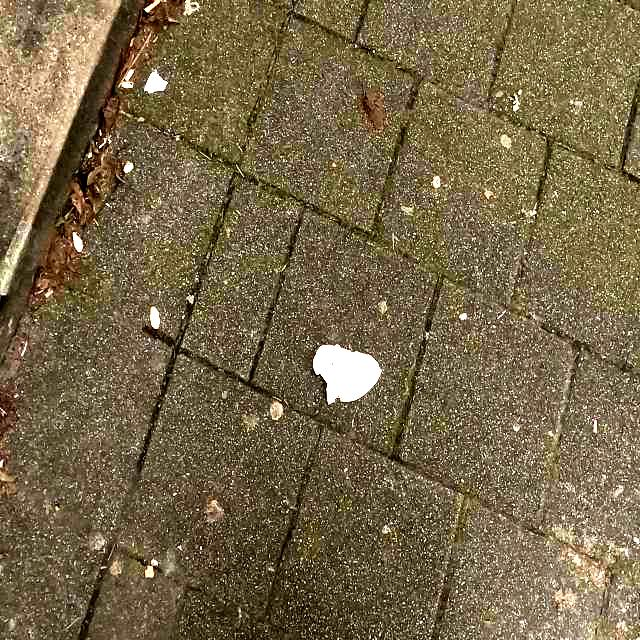Paper: (311, 342, 383, 406)
